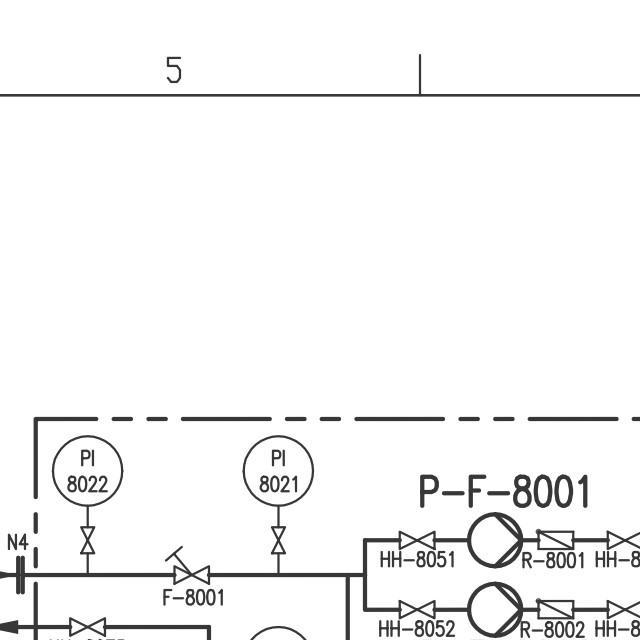CV2: (531, 522, 580, 553), (535, 593, 576, 623)
GV: (398, 593, 438, 621), (67, 613, 112, 636), (605, 593, 640, 622), (392, 529, 437, 550), (605, 527, 640, 553), (77, 522, 98, 557), (269, 522, 289, 557)
P: (468, 580, 522, 637), (466, 513, 522, 567)
S: (162, 543, 213, 584)
